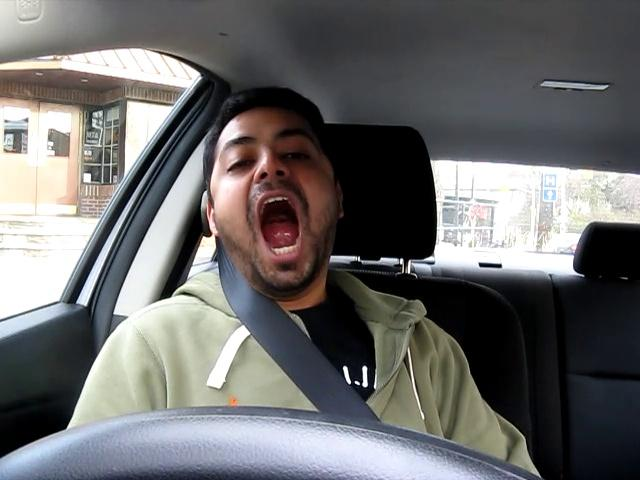close_eyeL: (214, 145, 263, 182)
close_eyeR: (267, 139, 327, 176)
yawn: (236, 184, 320, 268)
